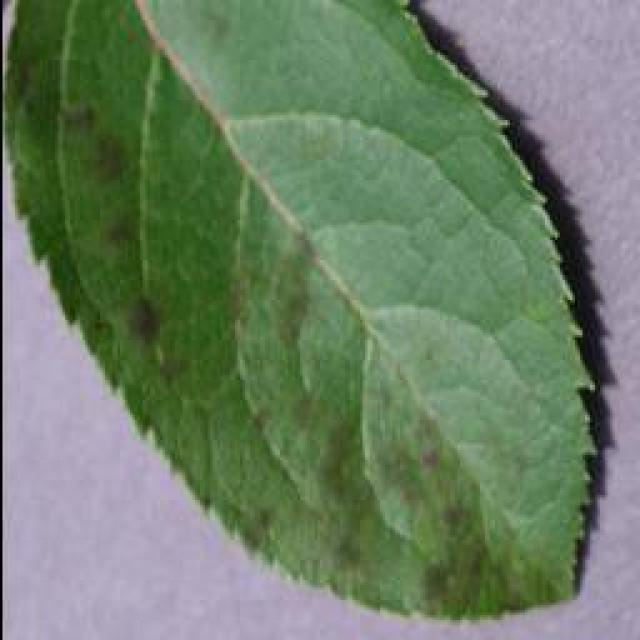apple scab disease: (2, 0, 607, 622)
